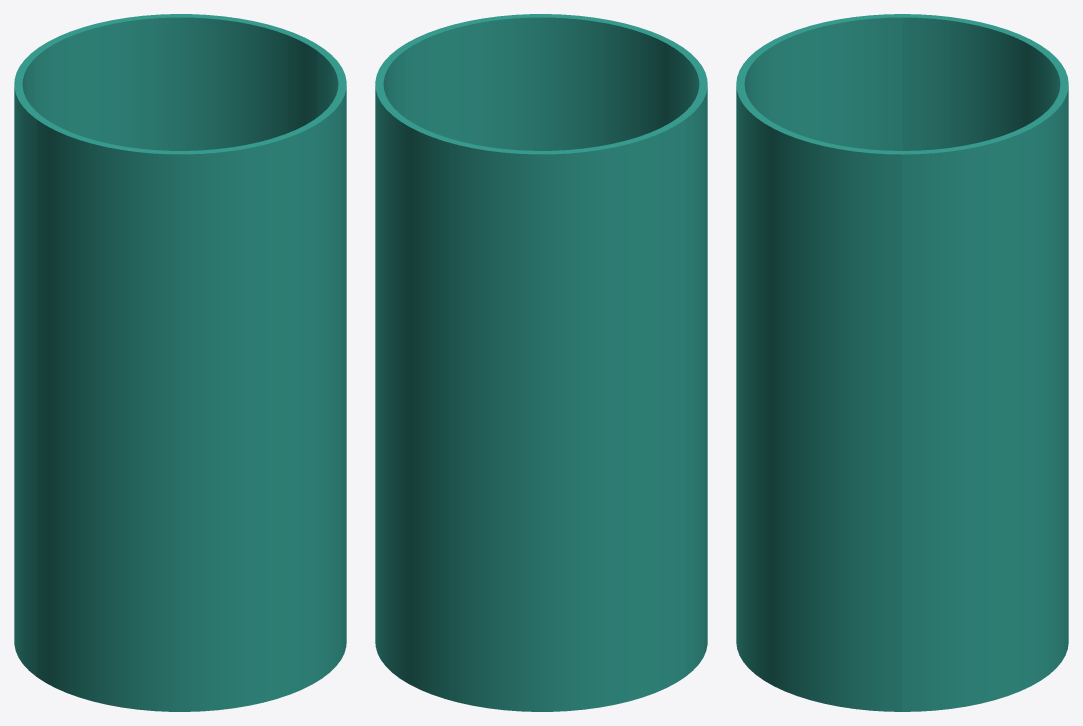
File: flash_evaporator_pressure.glb
The picture shows the model from 3 angles, left to right: view 1: azimuth 30°, elevation 25°; view 2: azimuth 150°, elevation 25°; view 3: azimuth 270°, elevation 25°; orthographic projection.
Parts seen in each view (by area): view 1: pressure__front, pressure__back; view 2: pressure__back, pressure__front; view 3: pressure__back, pressure__front.
Part boxes in pixels (x1=…): pressure__front: x1=36, y1=49, x2=346, y2=711; pressure__back: x1=14, y1=14, x2=323, y2=676; pressure__back: x1=375, y1=49, x2=685, y2=711; pressure__front: x1=398, y1=14, x2=707, y2=676; pressure__back: x1=902, y1=14, x2=1068, y2=711; pressure__front: x1=736, y1=14, x2=902, y2=711.
Size of the model in its own units: 1 by 1.85 by 1.
